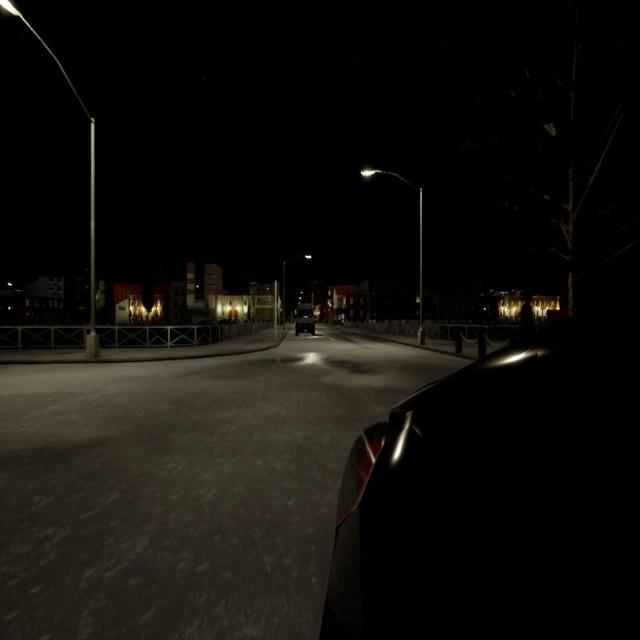Vehicle: (320, 315, 640, 637), (295, 302, 315, 336)
traffic_light: (328, 308, 330, 314)
